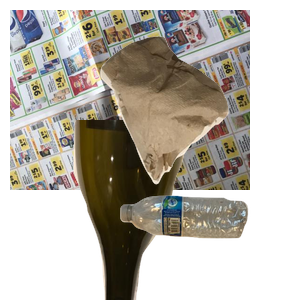glass: (71, 120, 254, 300)
paper: (10, 10, 250, 190)
plastic: (118, 193, 300, 300)
trash: (98, 34, 300, 211)
